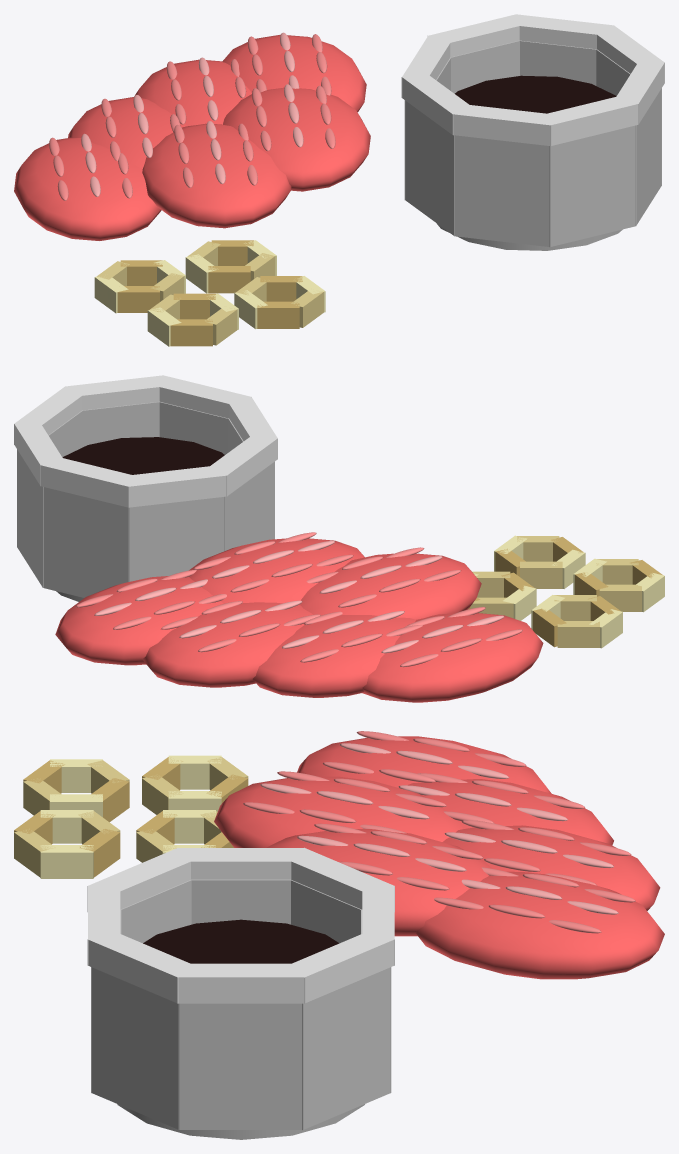
The model's file is CMU3DFoodMealSashimiExtraCloud.glb.
3 renders of one model, top to bottom at view 1: azimuth 30°, elevation 25°; view 2: azimuth 150°, elevation 25°; view 3: azimuth 270°, elevation 25°, orthographic. The views are drawn at different scales.
Visible parts, largest first — view 1: sashimi fish slice 5, sashimi fish slice 1, dipping cup open wall 06, dipping cup open wall 07, sashimi fish slice 6, sashimi fish slice 4, dipping cup open wall 05, recessed dark dipping sauce, sashimi fish slice 3, sashimi fish slice 2, dipping cup rolled rim 06, dipping cup rolled rim 07 (+27 smaller); view 2: sashimi fish slice 1, dipping cup open wall 03, sashimi fish slice 3, sashimi fish slice 4, sashimi fish slice 2, sashimi fish slice 5, dipping cup open wall 04, sashimi fish slice 6, recessed dark dipping sauce, dipping cup open wall 05, dipping cup rolled rim 04, dipping cup rolled rim 03 (+25 smaller); view 3: sashimi fish slice 4, dipping cup open wall 01, dipping cup open wall 02, dipping cup open wall 08, sashimi fish slice 5, sashimi fish slice 6, sashimi fish slice 3, sashimi fish slice 1, recessed dark dipping sauce, dipping cup rolled rim 01, sashimi fish slice 2, dipping cup open wall 05 (+30 smaller).
Boxes of the visible parts, x1,y1,x2,y2 form: sashimi fish slice 5: (142, 123, 291, 228); sashimi fish slice 1: (14, 137, 161, 240); dipping cup open wall 06: (454, 135, 550, 246); dipping cup open wall 07: (549, 125, 636, 246); sashimi fish slice 6: (223, 87, 370, 191); sashimi fish slice 4: (222, 34, 366, 112); dipping cup open wall 05: (405, 100, 454, 235); recessed dark dipping sauce: (455, 75, 616, 113); sashimi fish slice 3: (134, 59, 251, 125); sashimi fish slice 2: (68, 97, 187, 168); dipping cup rolled rim 06: (452, 105, 557, 145); dipping cup rolled rim 07: (539, 94, 638, 146); sashimi fish slice 1: (362, 613, 543, 702); dipping cup open wall 03: (42, 487, 129, 597); sashimi fish slice 3: (142, 602, 312, 687); sashimi fish slice 4: (55, 576, 222, 665); sashimi fish slice 2: (252, 615, 415, 697); sashimi fish slice 5: (299, 553, 481, 619); dipping cup open wall 04: (128, 496, 225, 581); sashimi fish slice 6: (189, 538, 364, 603); recessed dark dipping sauce: (62, 437, 224, 474); dipping cup open wall 05: (224, 462, 274, 550); dipping cup rolled rim 04: (124, 465, 227, 507); dipping cup rolled rim 03: (40, 456, 140, 507); sashimi fish slice 4: (415, 871, 664, 979); dipping cup open wall 01: (178, 1003, 303, 1129); dipping cup open wall 02: (302, 967, 391, 1129); dipping cup open wall 08: (91, 967, 179, 1129); sashimi fish slice 5: (214, 776, 462, 847); sashimi fish slice 6: (266, 829, 491, 936); sashimi fish slice 3: (442, 825, 660, 910); sashimi fish slice 1: (297, 736, 551, 793); recessed dark dipping sauce: (143, 919, 339, 963); dipping cup rolled rim 01: (177, 963, 305, 1003); sashimi fish slice 2: (407, 779, 613, 845); dipping cup open wall 05: (190, 879, 291, 924).
Bounding box in the file's own units: 0.6934 × 0.1635 × 0.5648.
